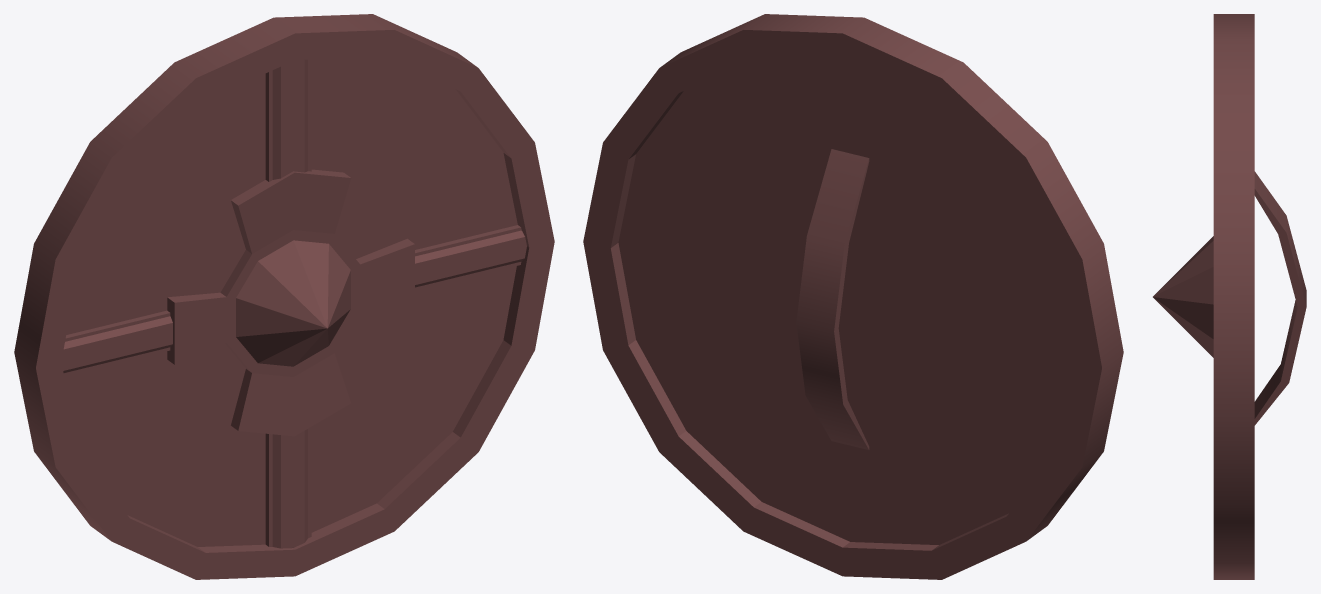
File: SM_shield_elite_03.fbx
The picture shows the model from 3 angles, left to right: view 1: azimuth 30°, elevation 25°; view 2: azimuth 150°, elevation 25°; view 3: azimuth 270°, elevation 25°; orthographic projection. The views are drawn at different scales.
Visible parts, largest first — view 1: Cylinder017; view 2: Cylinder017; view 3: Cylinder017.
Part boxes in pixels (x1,y1,x2,y2): Cylinder017: (14, 14, 554, 579); Cylinder017: (583, 14, 1123, 579); Cylinder017: (1153, 14, 1306, 579).
Size of the model in its own units: 21.43 by 21.43 by 5.83.
